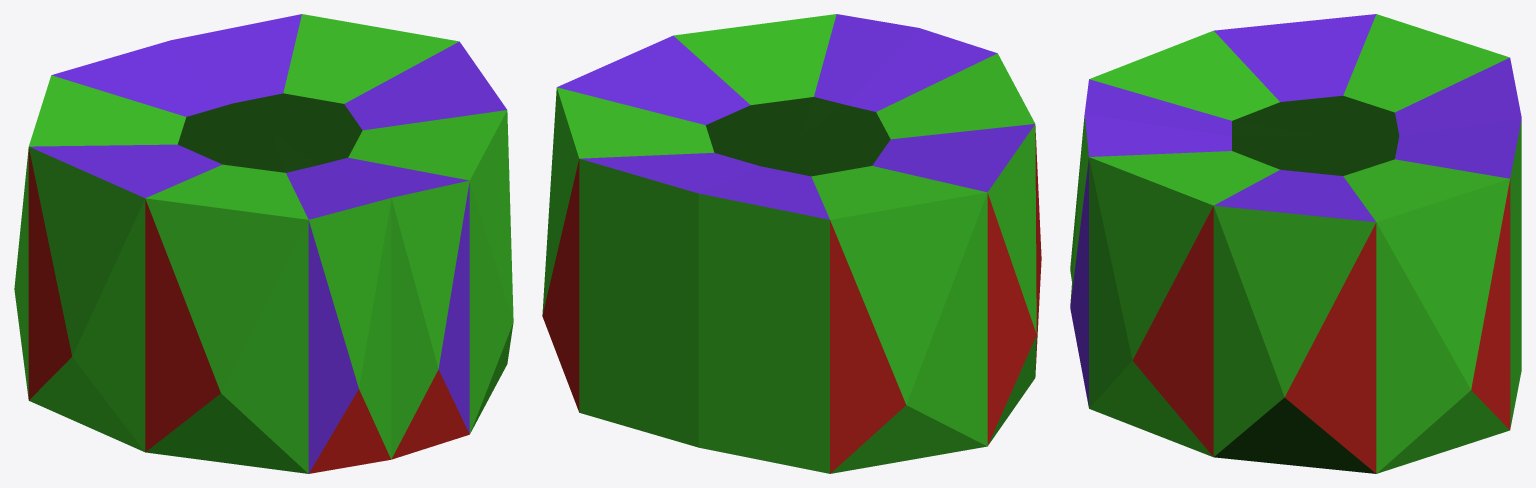
The model's file is cuerpo1.glb.
3 renders of one model, left to right at view 1: azimuth 30°, elevation 25°; view 2: azimuth 150°, elevation 25°; view 3: azimuth 270°, elevation 25°, orthographic.
Visible parts, largest first — view 1: Circle; view 2: Circle; view 3: Circle.
Part boxes in pixels (x1=…): Circle: x1=14, y1=14, x2=513, y2=473; Circle: x1=542, y1=14, x2=1041, y2=473; Circle: x1=1070, y1=14, x2=1521, y2=473.
Size of the model in its own units: 2.24 by 1.28 by 2.02.
